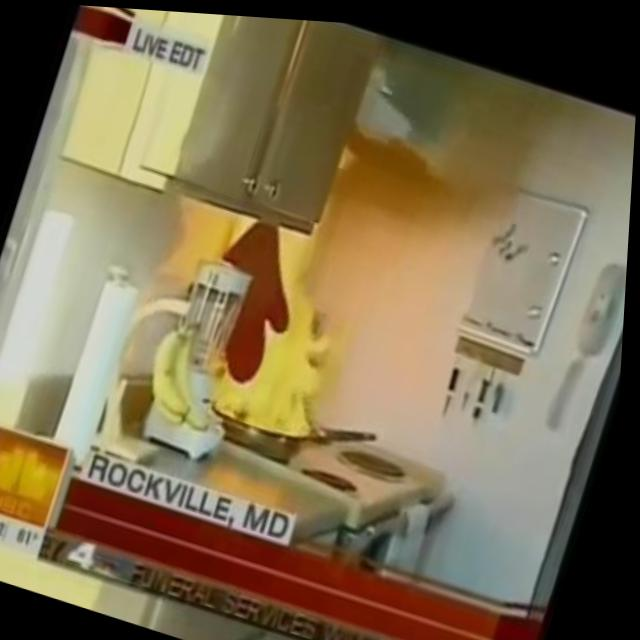fire: (178, 117, 407, 444)
